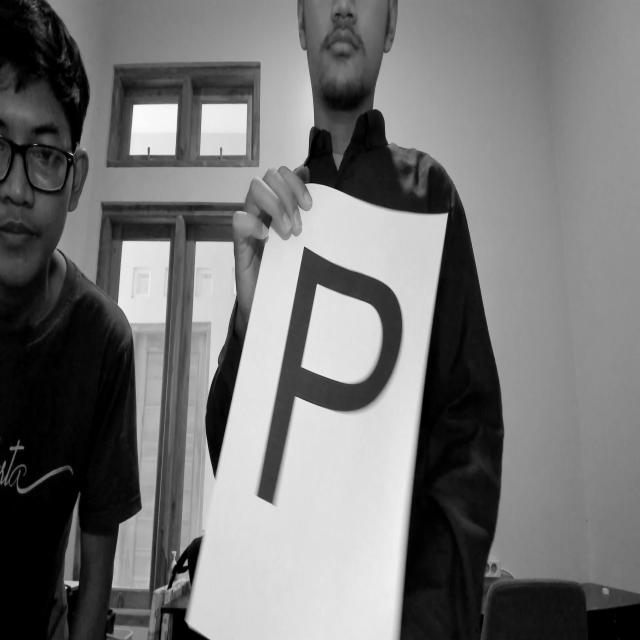p: (241, 243, 408, 541)
